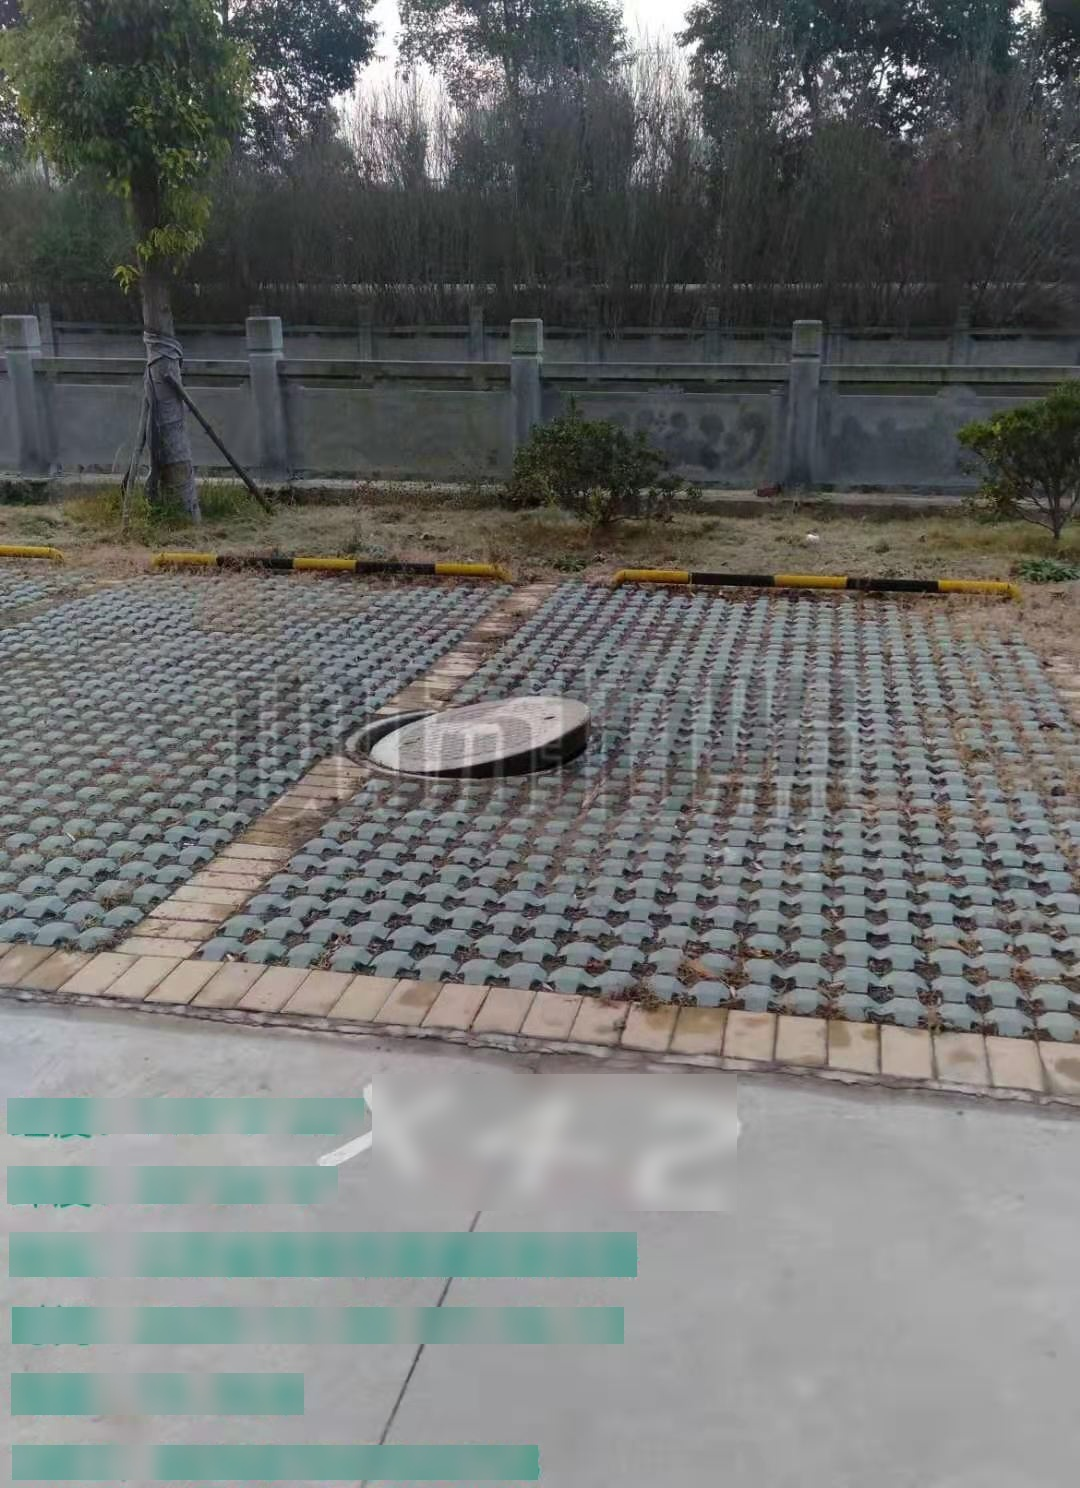uncovered: (342, 695, 609, 788)
